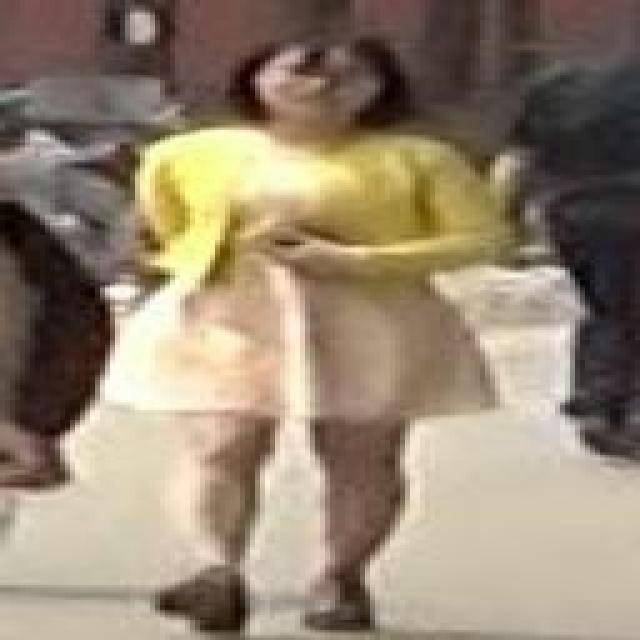adult: (114, 41, 492, 624), (476, 43, 640, 455)
